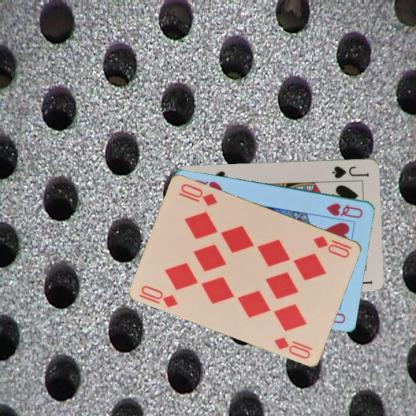10d: (138, 282, 180, 308), (311, 233, 351, 259)
Js: (330, 163, 370, 180)
Qh: (324, 200, 365, 219)
